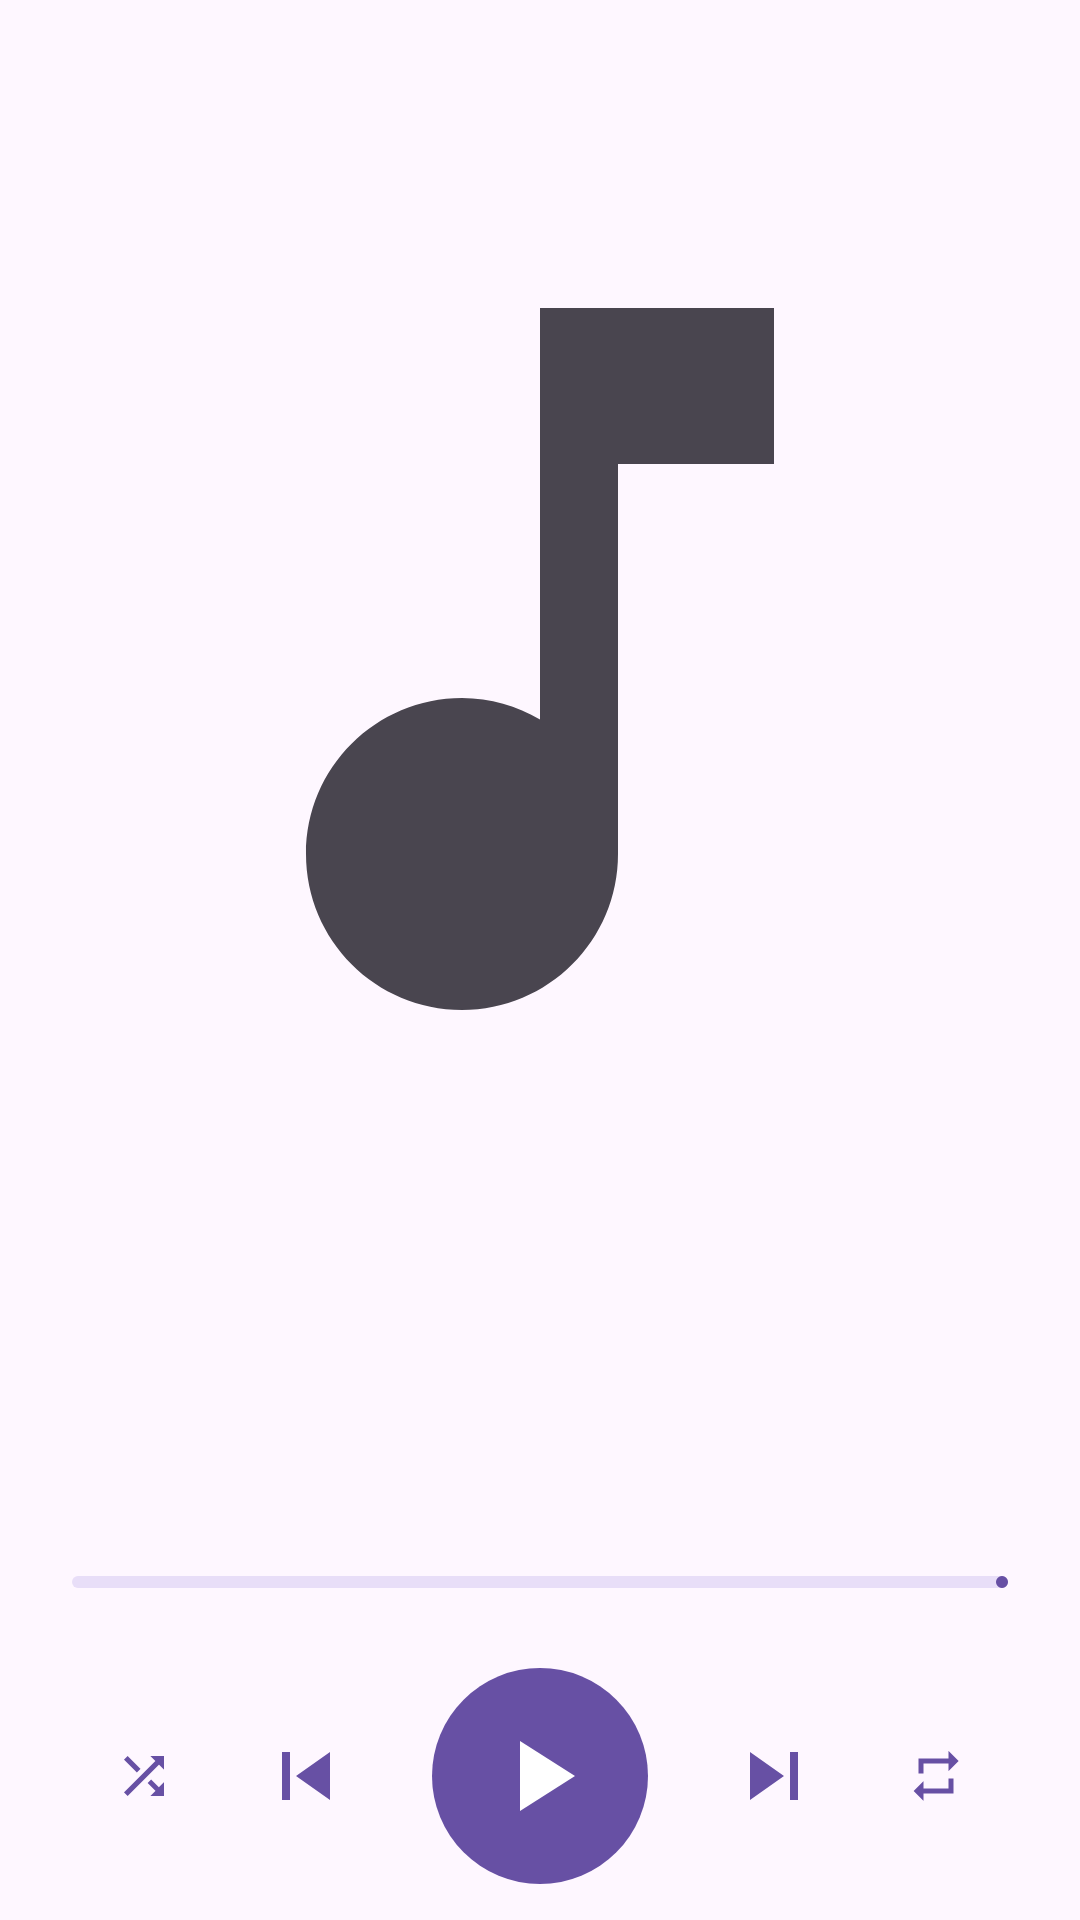

Icon click points for this 1080*1920 phone screenshot, format point (x, y):
Next title: point (774, 1776)
Play or pause: point (540, 1776)
Previous title: point (306, 1776)
Repeat: point (936, 1776)
Shuffle: point (144, 1776)
